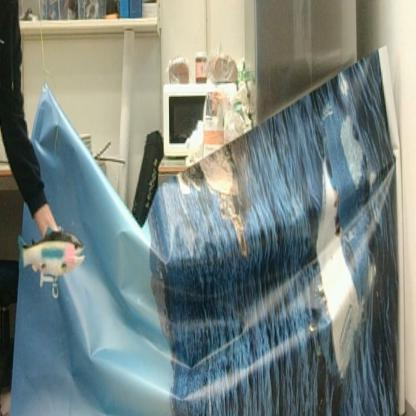rubberfish: (17, 230, 86, 278)
